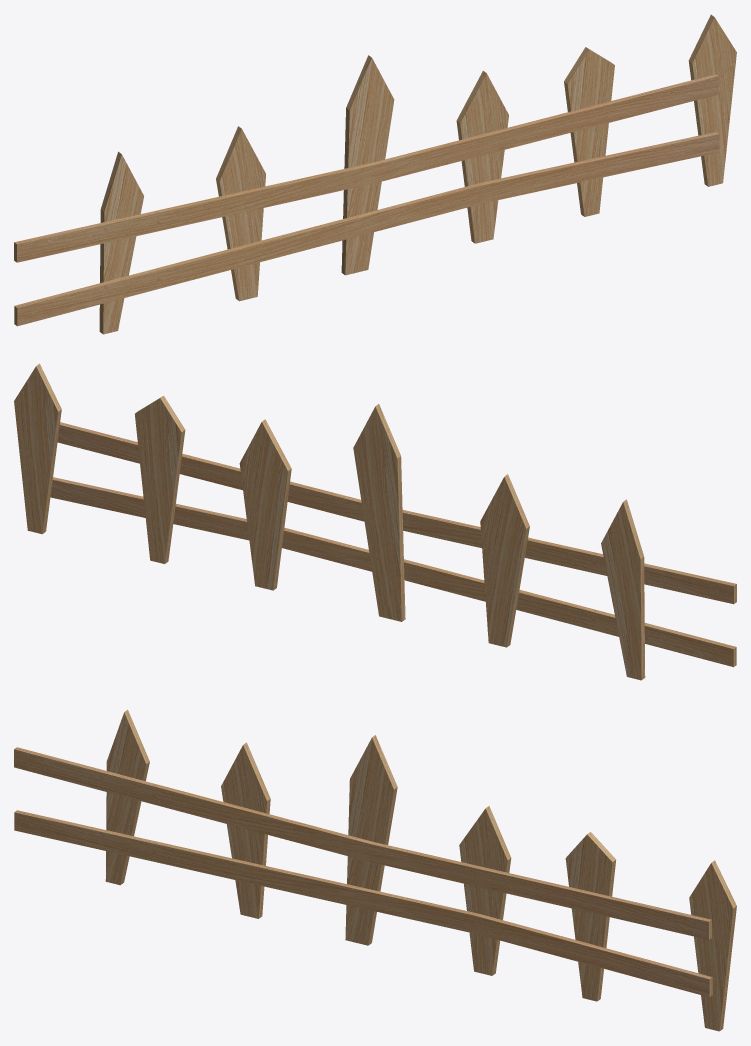
File: ETC0210022.fbx
3 views of the same model, one above another, from view 1: azimuth 30°, elevation 25°; view 2: azimuth 150°, elevation 25°; view 3: azimuth 330°, elevation 25° (orthographic).
Parts seen in each view (by area): view 1: smETC0210022; view 2: smETC0210022; view 3: smETC0210022.
Boxes of the visible parts, x1,y1,x2,y2 form: smETC0210022: (14, 14, 736, 334); smETC0210022: (14, 363, 736, 680); smETC0210022: (14, 709, 736, 1031).
Bounding box in the file's own units: 600 × 168 × 9.93.
1 material, 1 textured.
